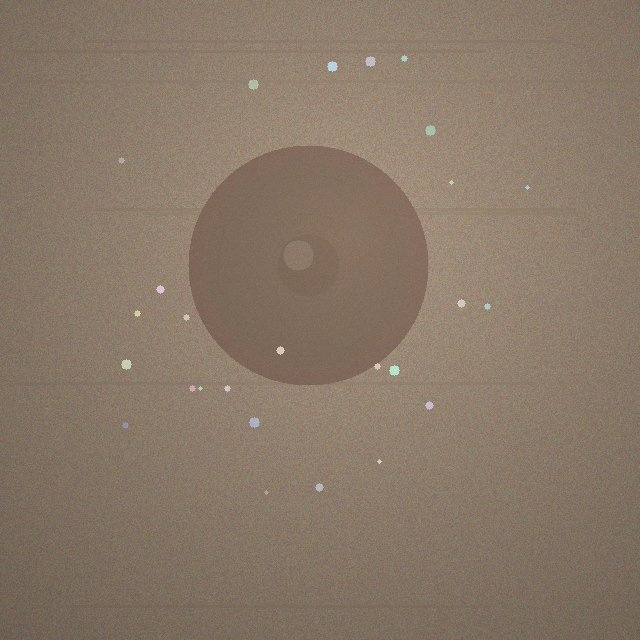overburn: (188, 145, 428, 385)
